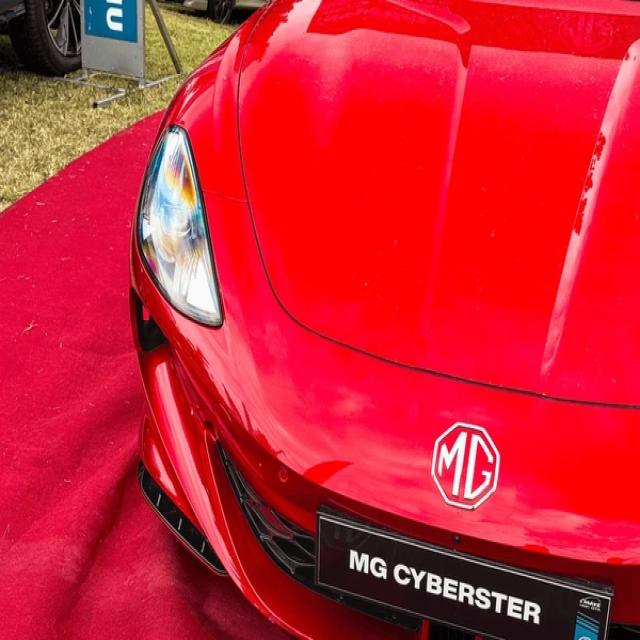mg: (429, 422, 502, 509)
